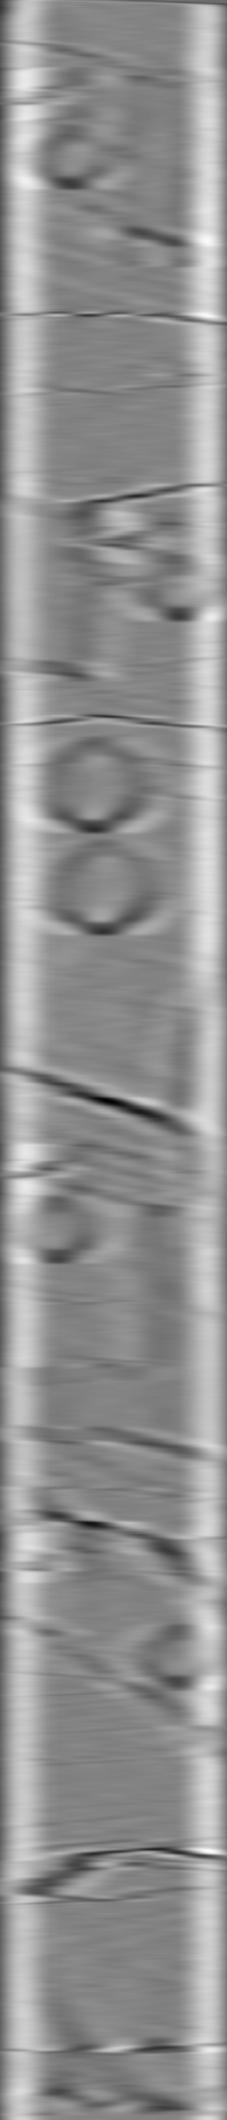hplug: (134, 548, 223, 626), (134, 1614, 222, 1693), (14, 1192, 95, 1267), (28, 115, 107, 191)
scal: (38, 731, 147, 836), (51, 836, 155, 941)
vplug: (14, 485, 101, 684), (113, 65, 195, 269), (127, 1188, 203, 1367)
